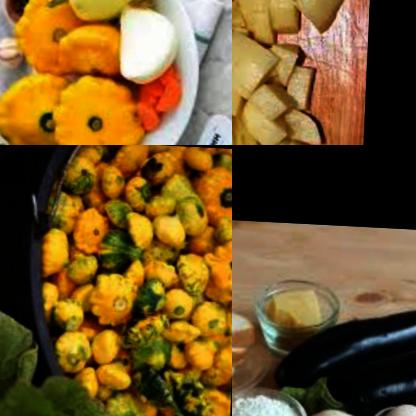bell pepper: (56, 0, 159, 26)
carrot: (126, 59, 181, 131)
eggplant: (277, 261, 416, 394), (295, 338, 416, 411)
onion: (115, 0, 183, 88)
potato: (232, 0, 366, 145)
squash-patisson: (35, 145, 232, 416), (44, 60, 152, 145), (1, 0, 84, 83), (0, 63, 77, 145), (49, 16, 124, 85)
